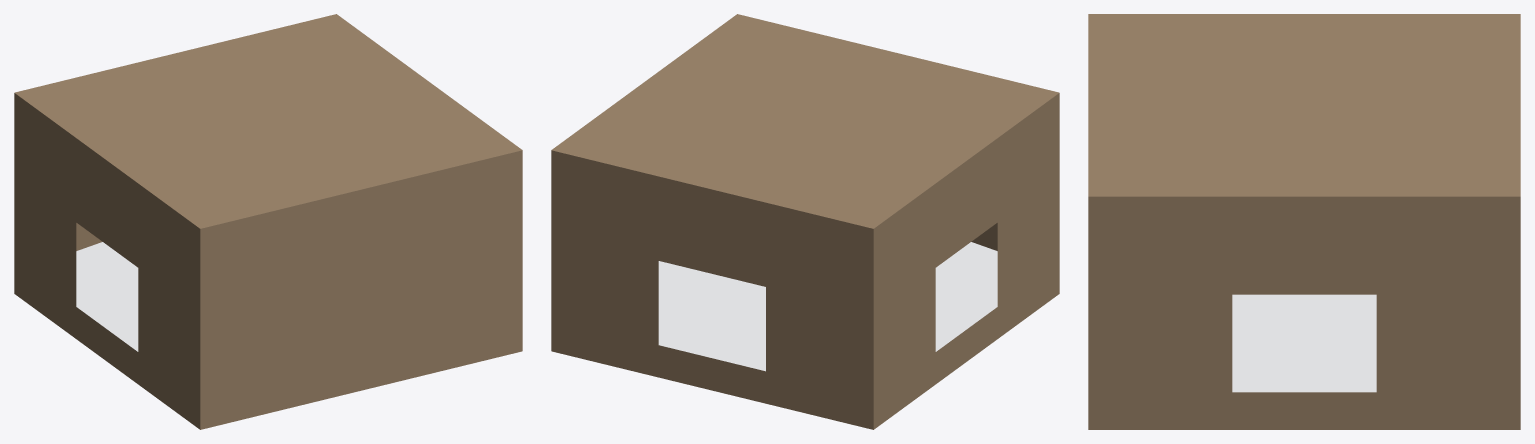
Rendered from 3DoorRoom.glb.
The picture shows the model from 3 angles, left to right: view 1: azimuth 30°, elevation 25°; view 2: azimuth 150°, elevation 25°; view 3: azimuth 270°, elevation 25°; orthographic projection. The views are drawn at different scales.
Parts seen in each view (by area): view 1: FourSides; view 2: FourSides; view 3: FourSides.
Boxes of the visible parts, <box> form: FourSides: <box>14,14,522,429</box>; FourSides: <box>551,14,1059,429</box>; FourSides: <box>1088,14,1520,429</box>.
Bounding box in the file's own units: 4 × 2.38 × 4.
